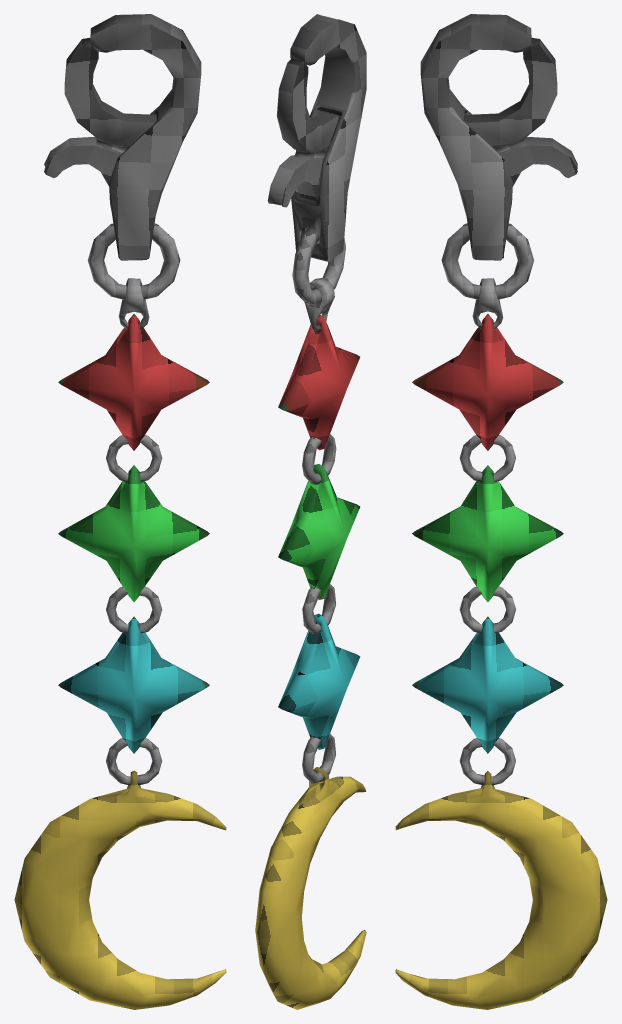
The model's file is phantomgreen_keychain.obj.
The picture shows the model from 3 angles, left to right: view 1: azimuth 90°, elevation 25°; view 2: azimuth 150°, elevation 25°; view 3: azimuth 270°, elevation 25°; orthographic projection.
Parts seen in each view (by area): view 1: keychain; view 2: keychain; view 3: keychain.
Boxes of the visible parts, x1,y1,x2,y2 form: keychain: (14,14,226,1009); keychain: (255,14,366,1009); keychain: (395,14,607,1009).
Size of the model in its own units: 0.0206 by 0.3457 by 0.0671.
